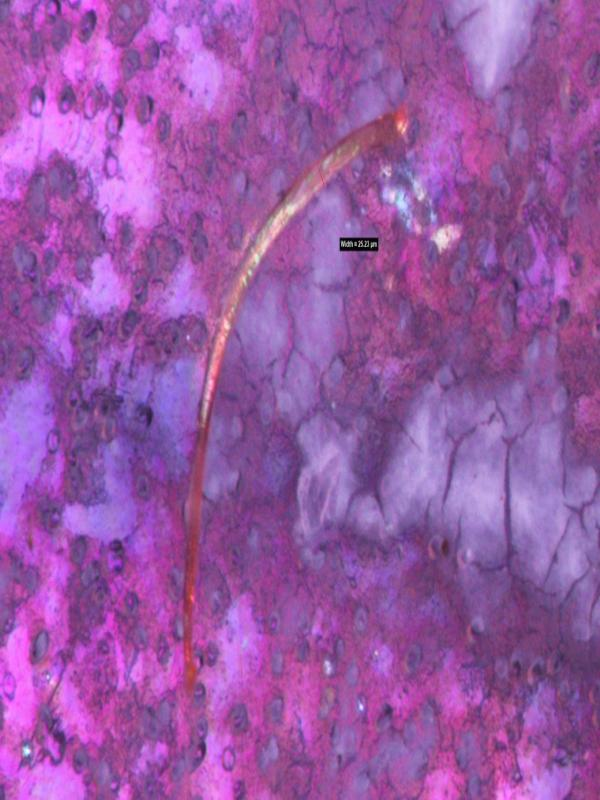microplastic: (1, 2, 598, 797), (179, 101, 416, 691)
